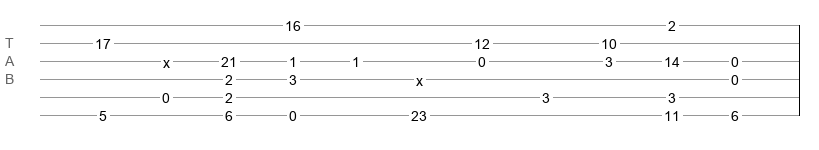0: (162, 90, 170, 100), (289, 108, 297, 118), (478, 54, 486, 64), (731, 54, 739, 64), (731, 72, 739, 82)
1: (289, 54, 297, 64), (352, 54, 360, 64)
10: (601, 36, 617, 46)
11: (664, 108, 680, 118)
12: (474, 36, 490, 46)
14: (664, 54, 680, 64)
16: (285, 18, 301, 28)
17: (95, 36, 111, 46)
2: (225, 90, 233, 100), (225, 72, 233, 82), (668, 18, 676, 28)
21: (221, 54, 237, 64)
23: (411, 108, 427, 118)
3: (289, 72, 297, 82), (542, 90, 550, 100), (605, 54, 613, 64), (668, 90, 676, 100)
5: (99, 108, 107, 118)
6: (225, 108, 233, 118), (731, 108, 739, 118)
x: (163, 55, 170, 63), (416, 73, 423, 81)
